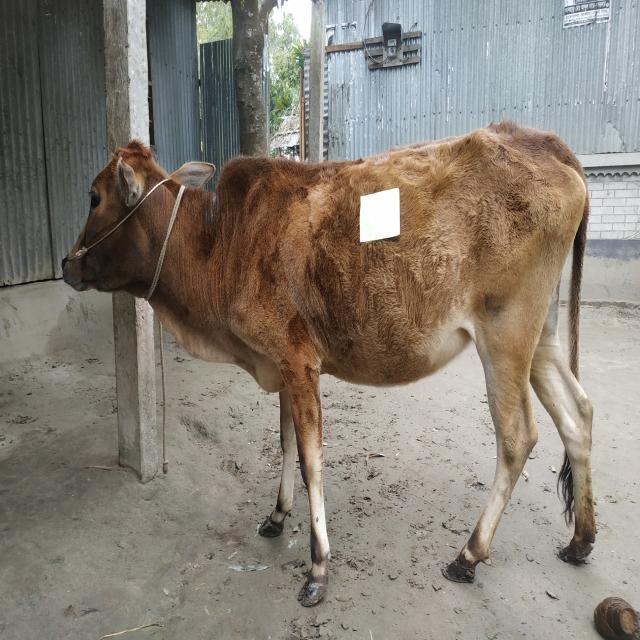badan_sapi: (261, 160, 582, 380)
sapi: (58, 121, 608, 605)
